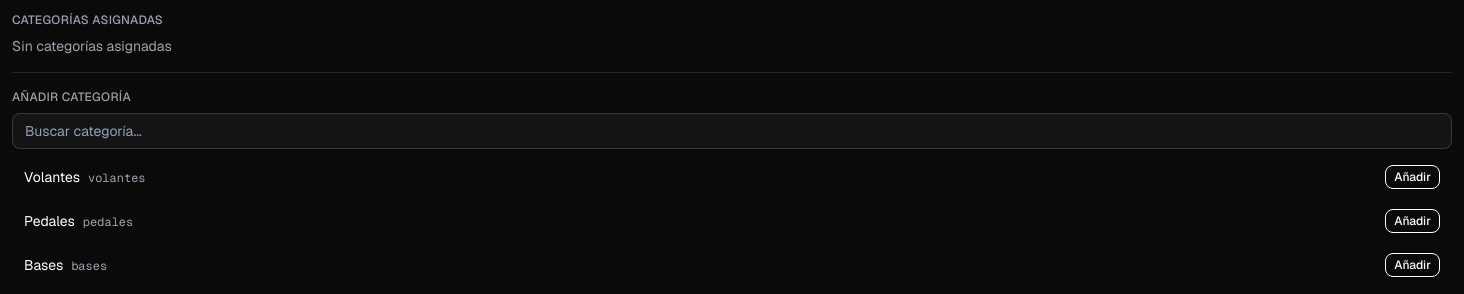
CategoryAssignPanel › búsqueda › filtra las categorías disponibles al escribir en el buscador
Step 1. Type "ped" into the field with placeholder "Buscar categoría..." → (732, 131), box [12, 113, 1452, 149]
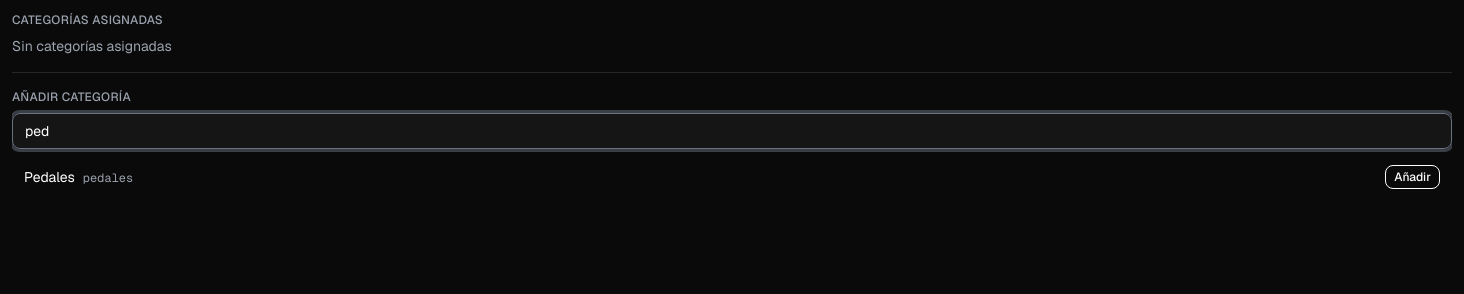
Check: the text "Pedales" is shown, box [24, 168, 75, 186]
Check: the text "Volantes" is gone
Check: the text "Bases" is gone
